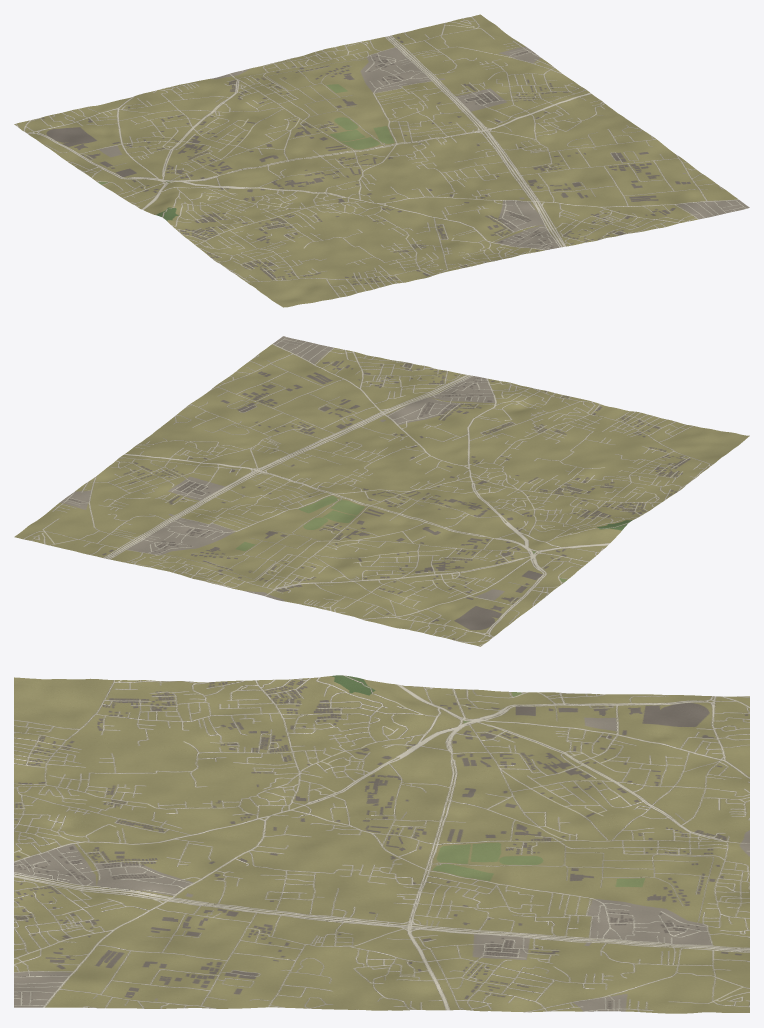
Rendered from terrain.glb.
3 renders of one model, top to bottom at view 1: azimuth 30°, elevation 25°; view 2: azimuth 150°, elevation 25°; view 3: azimuth 270°, elevation 25°, orthographic. The views are drawn at different scales.
Visible parts, largest first — view 1: terrain; view 2: terrain; view 3: terrain.
Boxes of the visible parts, x1=… form: terrain: x1=14, y1=14, x2=749, y2=307; terrain: x1=14, y1=336, x2=749, y2=646; terrain: x1=14, y1=675, x2=749, y2=1013.
Size of the model in its own units: 3000 by 122 by 3000.
Materials: 1 (1 with a texture image).
